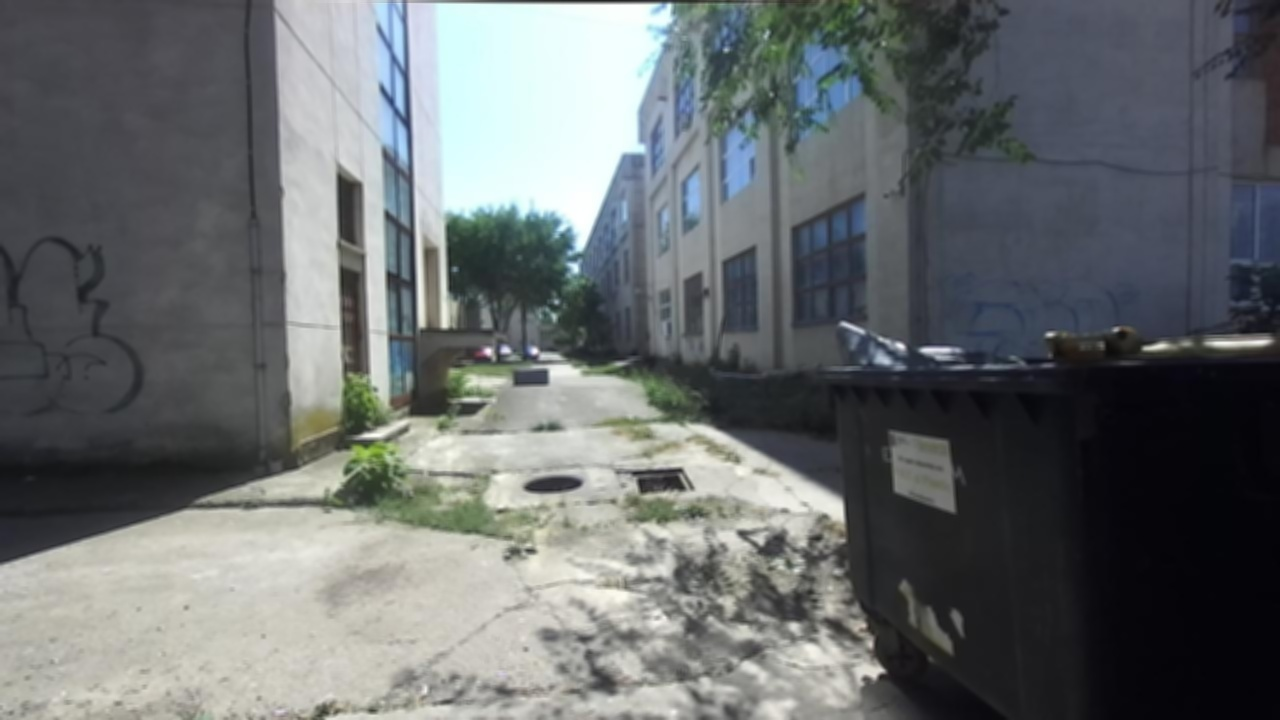drain: (630, 465, 698, 495), (519, 469, 591, 492)
